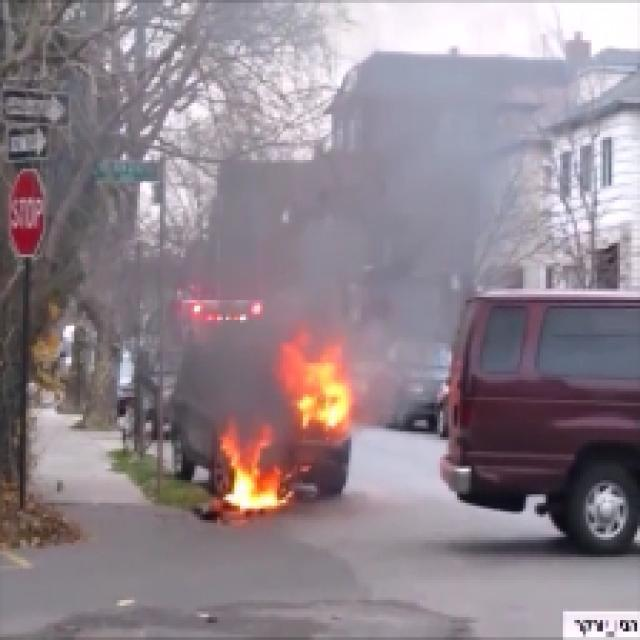Fire: (223, 456, 294, 516)
Smoke: (266, 176, 446, 352), (197, 353, 275, 425), (302, 368, 350, 436)
